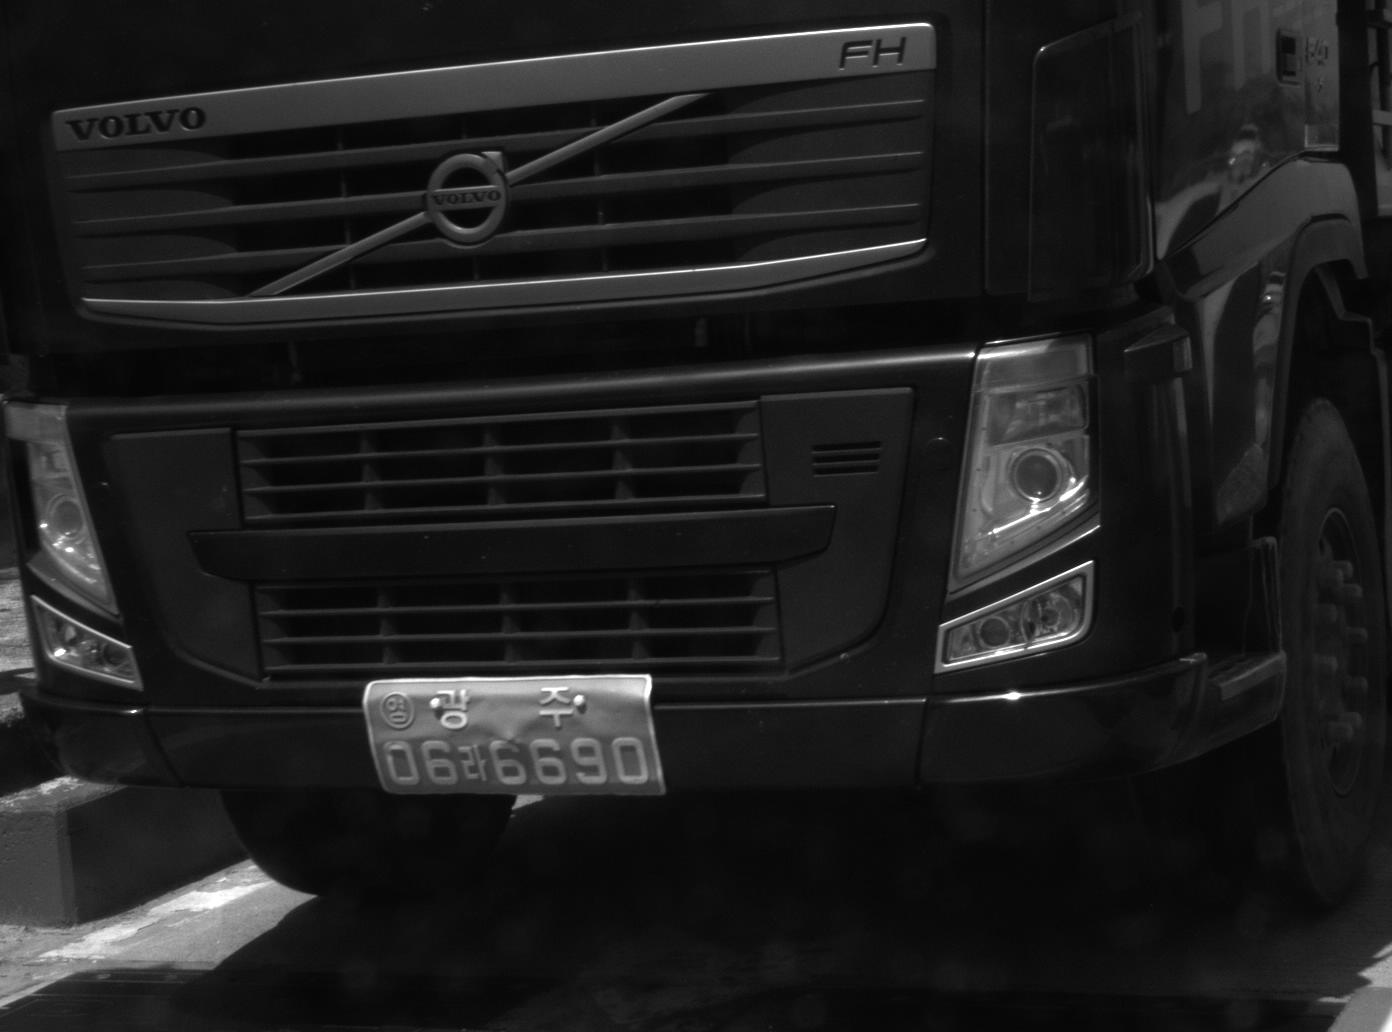car: (1, 1, 1389, 922)
plate: (358, 672, 667, 797)
